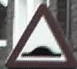Speed Breaker ahead: (7, 4, 71, 63)
